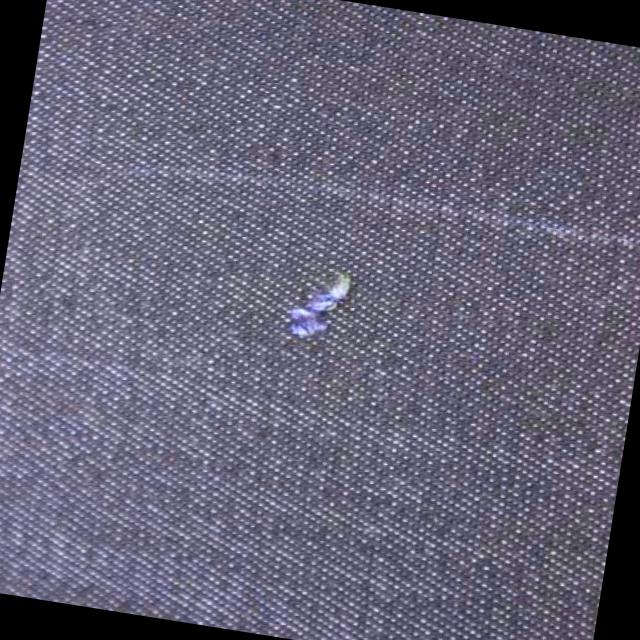Stain: (311, 179, 640, 256)
Thread: (278, 262, 356, 348)
